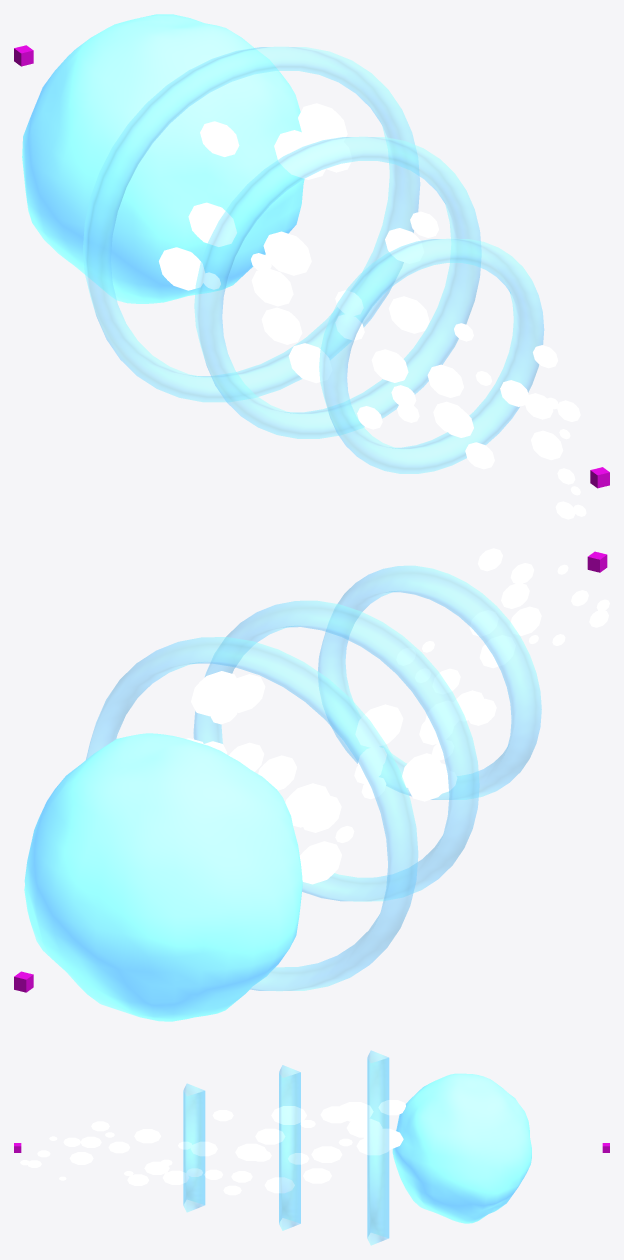
Rendered from WaterBlast.fbx.
The picture shows the model from 3 angles, top to bottom: view 1: azimuth 30°, elevation 25°; view 2: azimuth 150°, elevation 25°; view 3: azimuth 270°, elevation 25°; orthographic projection. The views are drawn at different scales.
Visible parts, largest first — view 1: Sheath.001, Core.007, Foam; view 2: Core.007, Sheath.001, Foam; view 3: Core.007, Sheath.001, Foam.
Boxes of the visible parts, x1,y1,x2,y2 form: Sheath.001: [83, 46, 544, 473]; Core.007: [22, 14, 304, 303]; Foam: [159, 103, 586, 519]; Core.007: [24, 733, 302, 1021]; Sheath.001: [86, 565, 541, 991]; Foam: [186, 548, 609, 884]; Core.007: [392, 1073, 531, 1223]; Sheath.001: [183, 1050, 389, 1245]; Foam: [20, 1100, 405, 1195].
Bounding box in the file's own units: 2.66 × 2.66 × 8.1.
